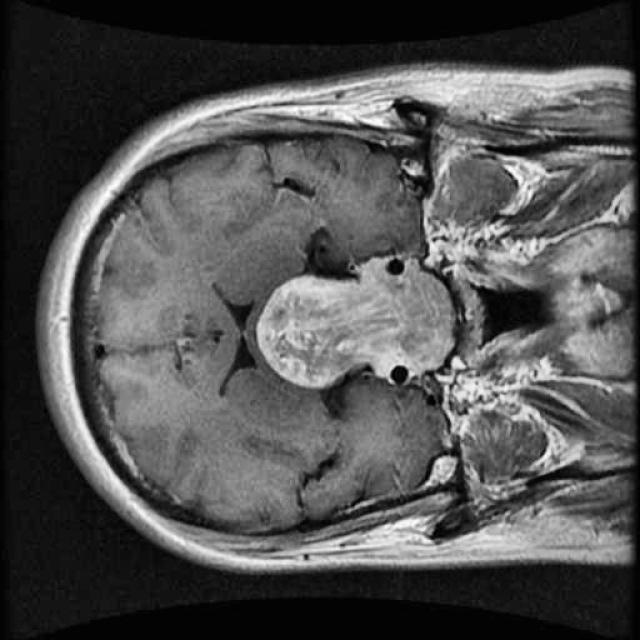Tumor: (246, 236, 472, 400)
